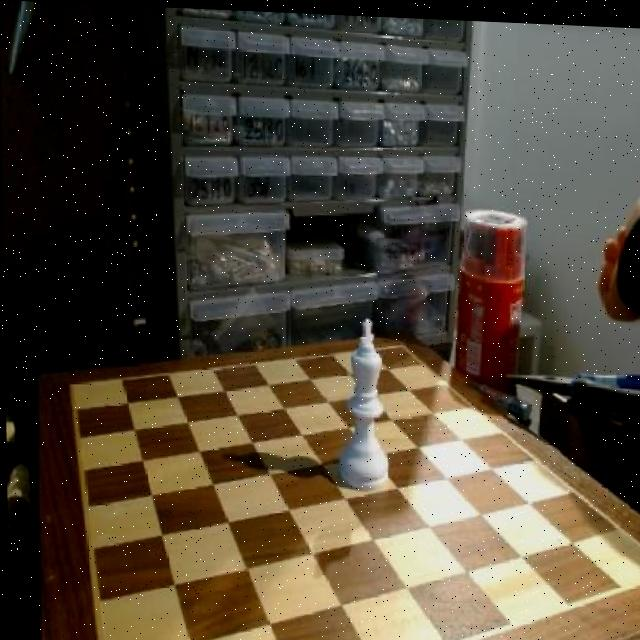white-bishop: (342, 317, 389, 491)
